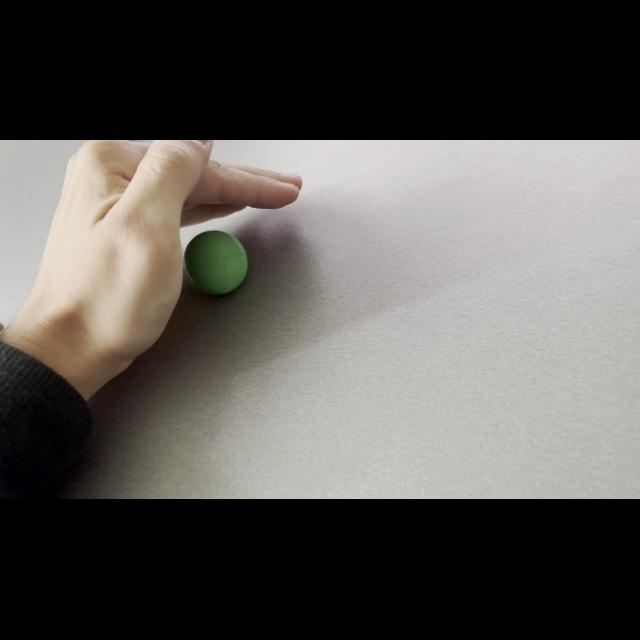objects: (180, 226, 256, 304)
